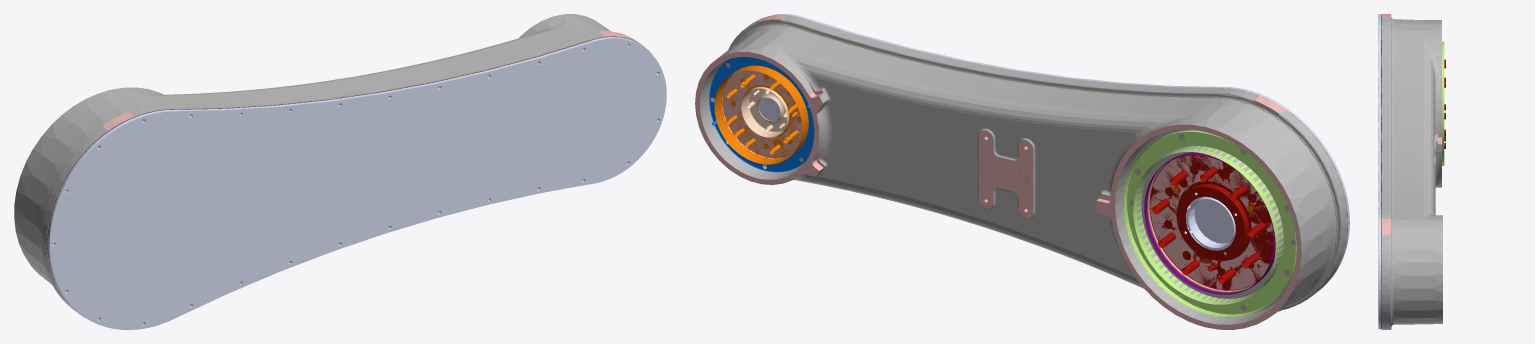
The picture shows the model from 3 angles, left to right: view 1: azimuth 30°, elevation 25°; view 2: azimuth 150°, elevation 25°; view 3: azimuth 270°, elevation 25°; orthographic projection. The views are drawn at different scales.
Parts seen in each view (by area): view 1: node; view 2: node; view 3: node.
Part boxes in pixels (<box>): node: <box>14,14,666,329</box>; node: <box>695,14,1349,329</box>; node: <box>1378,14,1445,329</box>.
Size of the model in its own units: 1244 by 412 by 326.
